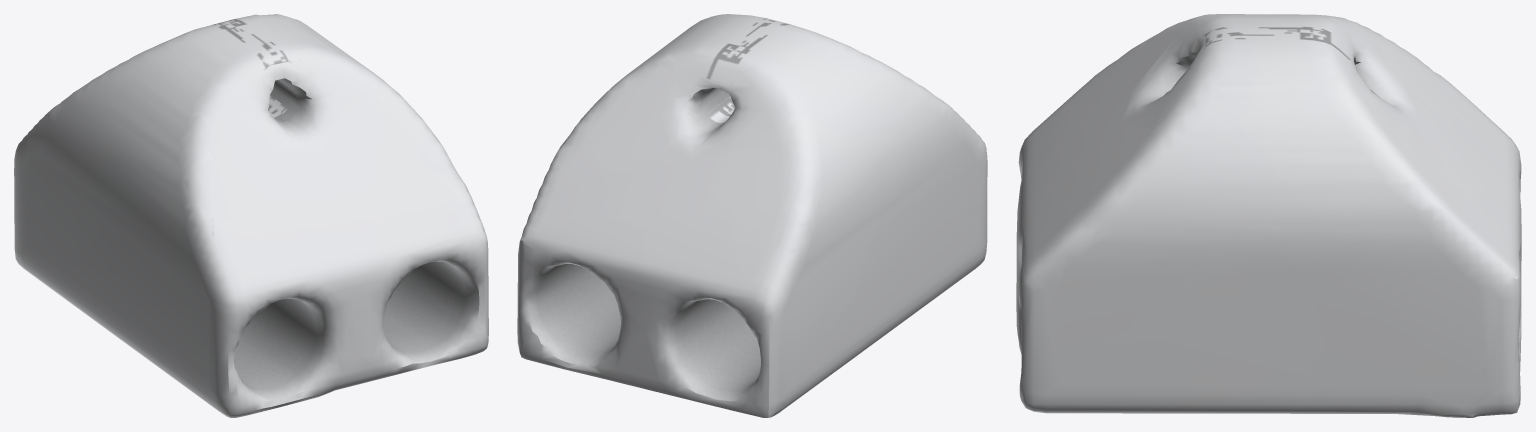
The model's file is left_finger4_middle.obj.
3 views of the same model, side by side, from view 1: azimuth 30°, elevation 25°; view 2: azimuth 150°, elevation 25°; view 3: azimuth 270°, elevation 25° (orthographic). The views are drawn at different scales.
Visible parts, largest first — view 1: left_finger4_middle; view 2: left_finger4_middle; view 3: left_finger4_middle.
Part boxes in pixels (x1,y1,x2,y2): left_finger4_middle: [14, 14, 488, 417]; left_finger4_middle: [517, 14, 987, 417]; left_finger4_middle: [1016, 14, 1521, 417].
Bounding box in the file's own units: 0.0105 × 0.0104 × 0.0151.
1 material, 1 textured.
